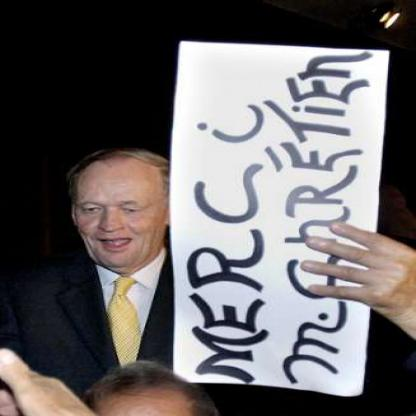face: (74, 151, 170, 271)
